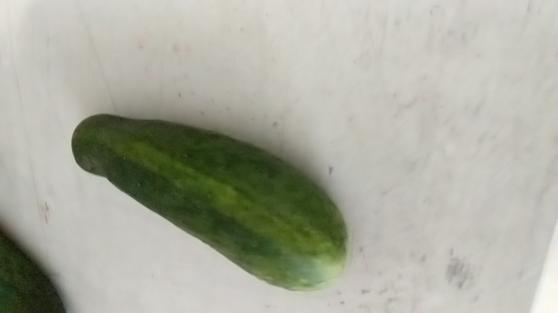cucumber: (72, 112, 348, 289)
